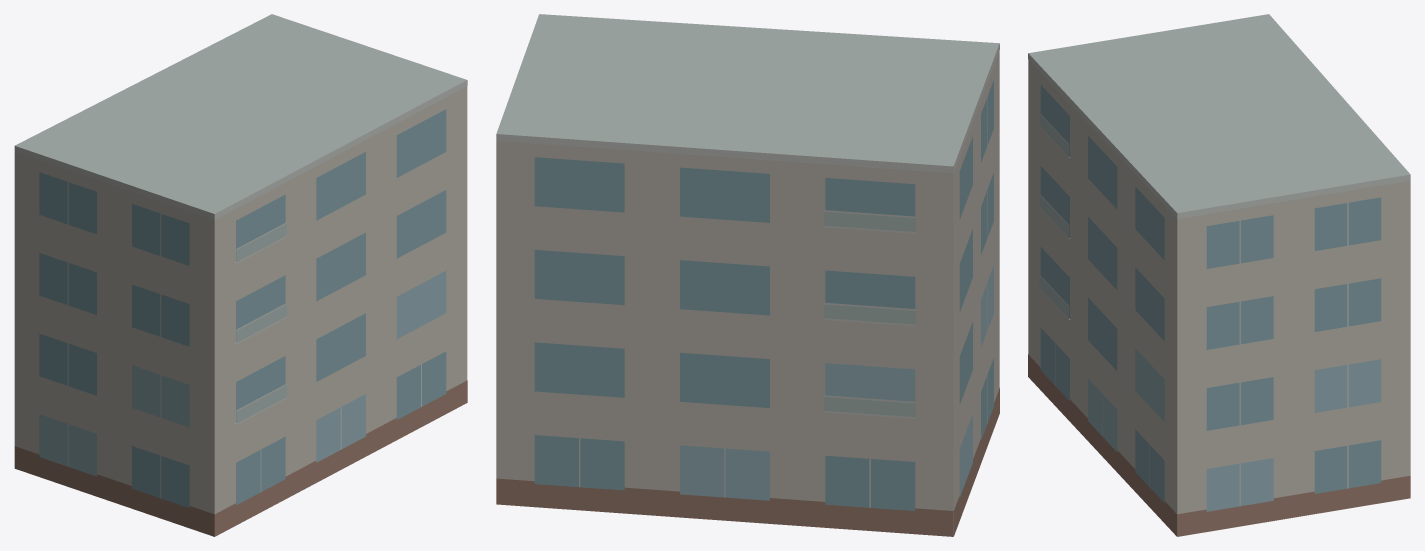
Rendered from survey-upis-32732545.glb.
The picture shows the model from 3 angles, left to right: view 1: azimuth 30°, elevation 25°; view 2: azimuth 150°, elevation 25°; view 3: azimuth 270°, elevation 25°; orthographic projection. The views are drawn at different scales.
Parts seen in each view (by area): view 1: survey-upis-32732545.tmp; view 2: survey-upis-32732545.tmp; view 3: survey-upis-32732545.tmp.
Boxes of the visible parts, x1,y1,x2,y2 form: survey-upis-32732545.tmp: (14,14,467,536); survey-upis-32732545.tmp: (496,14,999,536); survey-upis-32732545.tmp: (1028,14,1410,536).
Size of the model in its own units: 17.29 by 13.1 by 14.04.
